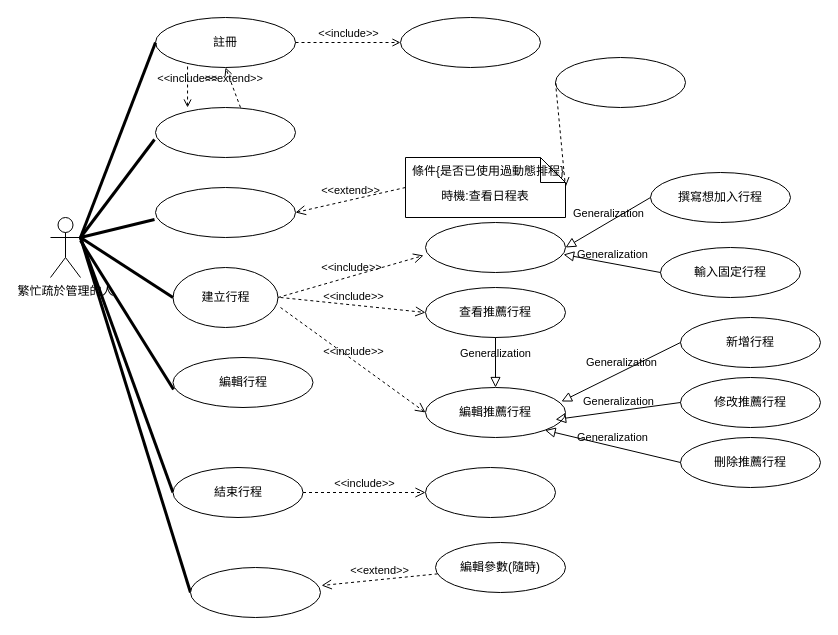
Image size: 838x635. Some labels were removed from this diagram. Each missing label, with the box of its shape:
回饋使用意見: (424, 466, 556, 518)
填寫個人化問卷: (400, 16, 540, 68)
查看動態排程: (554, 56, 686, 108)
查看日程表: (154, 186, 296, 238)
登入: (154, 106, 296, 158)
管理帳號: (190, 566, 320, 618)
輸入行程: (424, 222, 566, 272)
